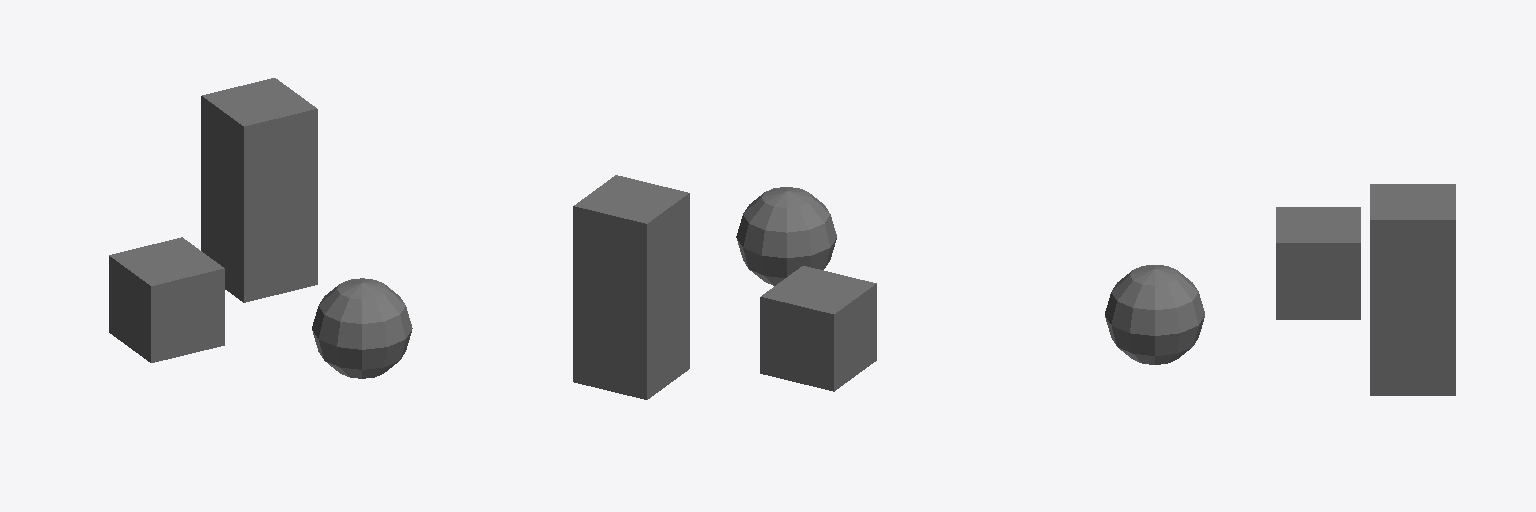
The model's file is models.obj.
3 renders of one model, left to right at view 1: azimuth 30°, elevation 25°; view 2: azimuth 150°, elevation 25°; view 3: azimuth 270°, elevation 25°, orthographic.
Parts seen in each view (by area): view 1: pCube2, pCube1, models:pSphere1; view 2: pCube2, pCube1, models:pSphere1; view 3: pCube2, pCube1, models:pSphere1.
Part boxes in pixels (bbox=[...]): pCube2: bbox=[201, 78, 317, 302]; pCube1: bbox=[109, 237, 224, 362]; models:pSphere1: bbox=[312, 278, 412, 378]; pCube2: bbox=[573, 175, 689, 399]; pCube1: bbox=[760, 266, 876, 391]; models:pSphere1: bbox=[736, 187, 836, 285]; pCube2: bbox=[1370, 184, 1455, 395]; pCube1: bbox=[1276, 207, 1360, 319]; models:pSphere1: bbox=[1105, 265, 1204, 364].
Size of the model in its own units: 4.88 by 3.85 by 6.95.